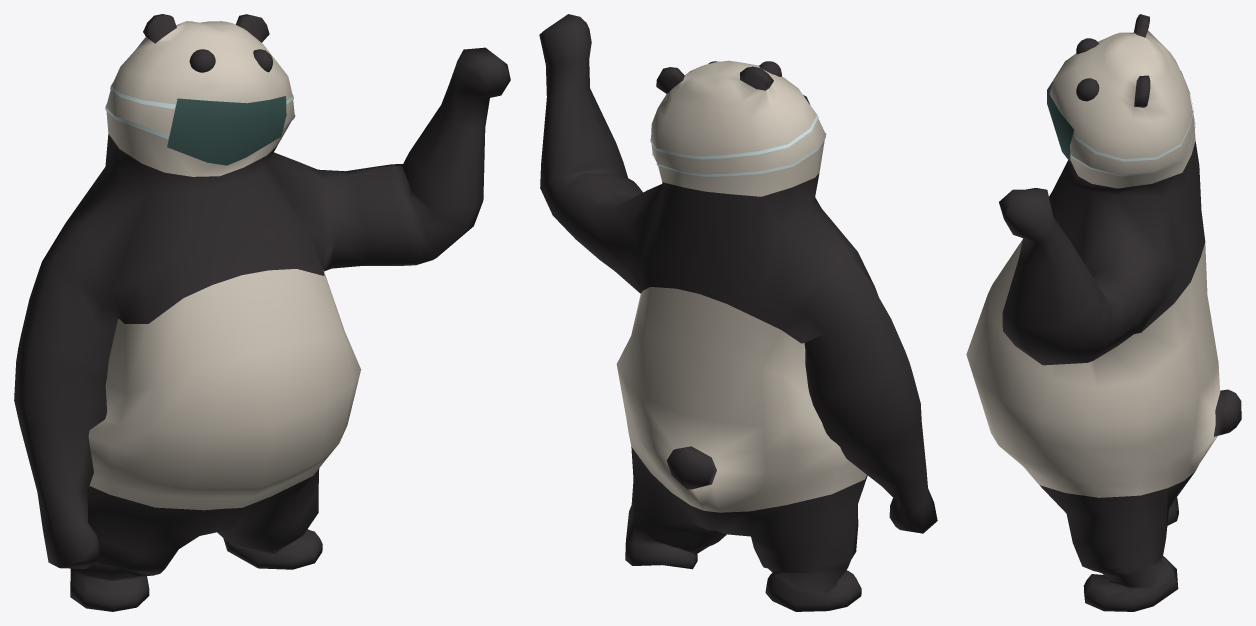
File: PandaHello.fbx
3 renders of one model, left to right at view 1: azimuth 30°, elevation 25°; view 2: azimuth 150°, elevation 25°; view 3: azimuth 270°, elevation 25°, orthographic. The views are drawn at different scales.
Visible parts, largest first — view 1: Cube.001; view 2: Cube.001; view 3: Cube.001.
Boxes of the visible parts, x1,y1,x2,y2 form: Cube.001: (14,14,510,611); Cube.001: (539,14,937,611); Cube.001: (966,14,1241,611).
Size of the model in its own units: 151 by 182 by 85.24.
